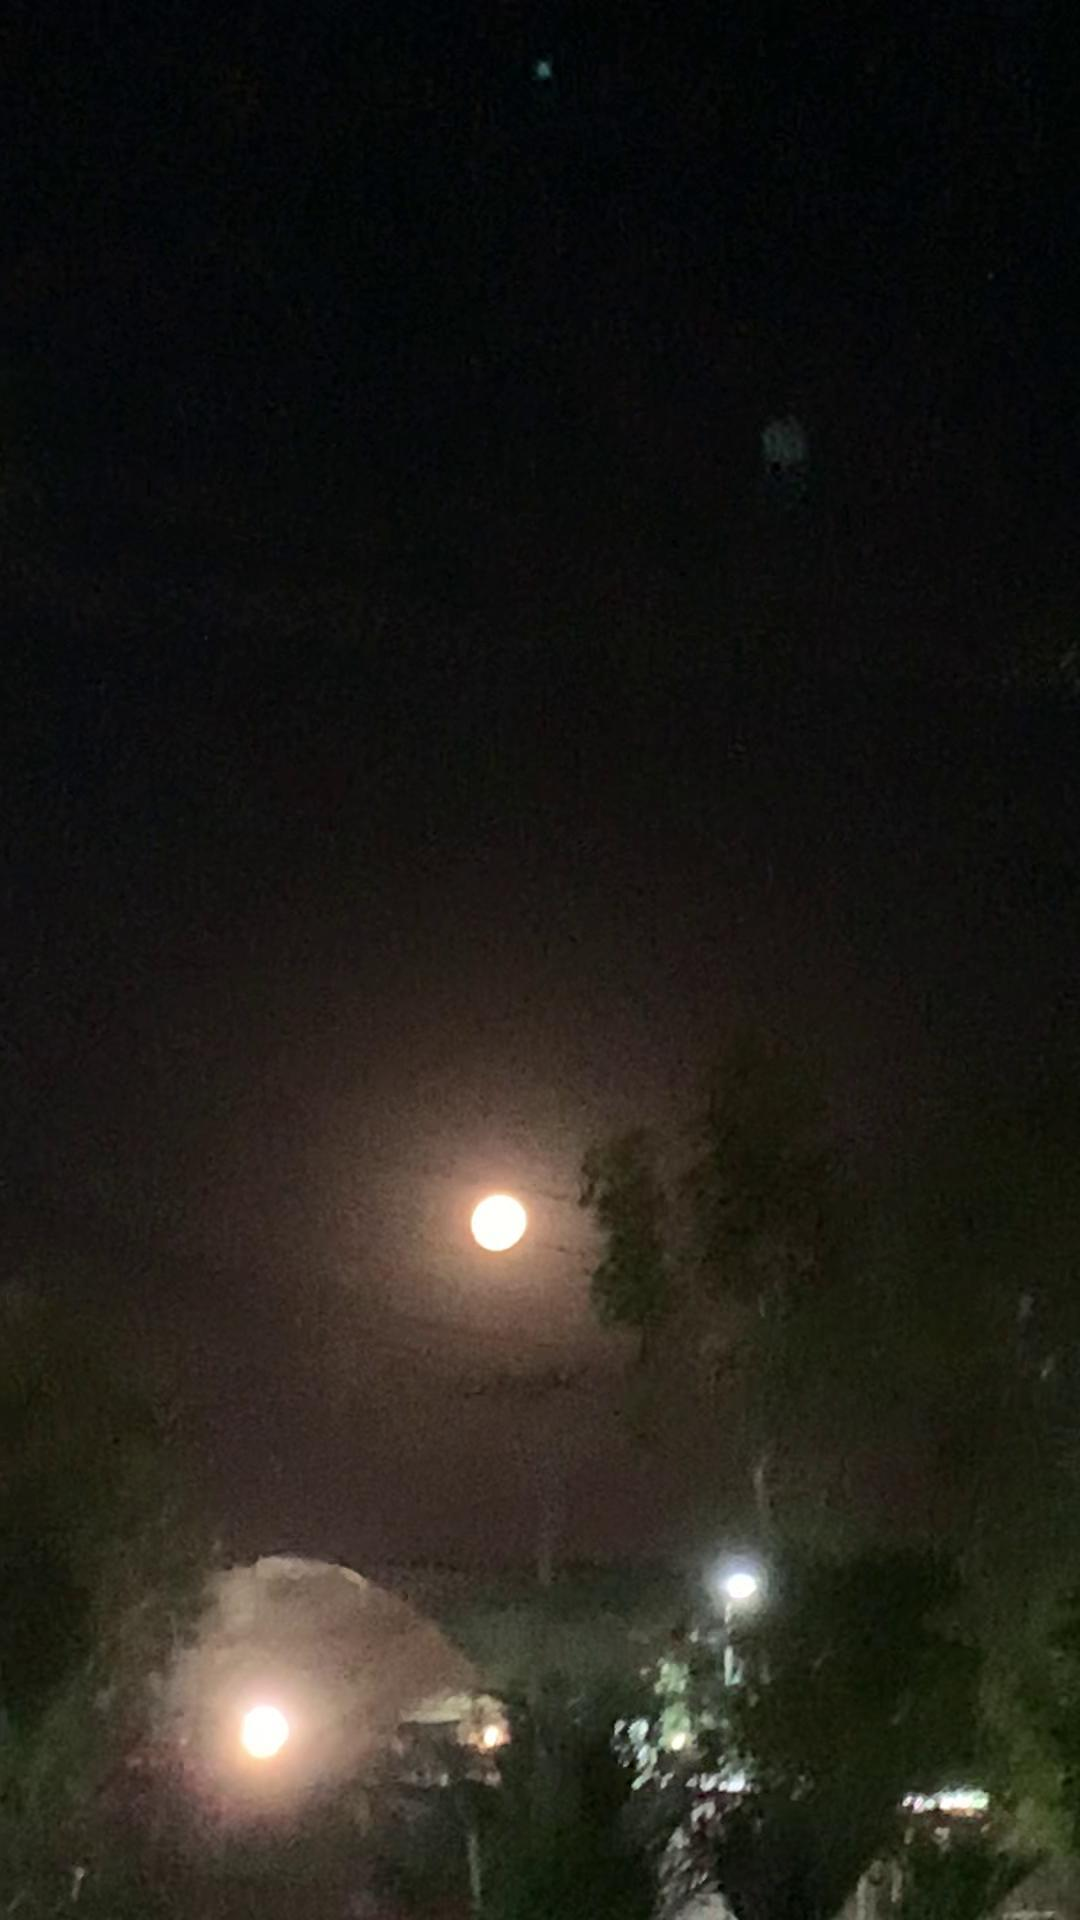moon: (456, 1197, 527, 1270)
